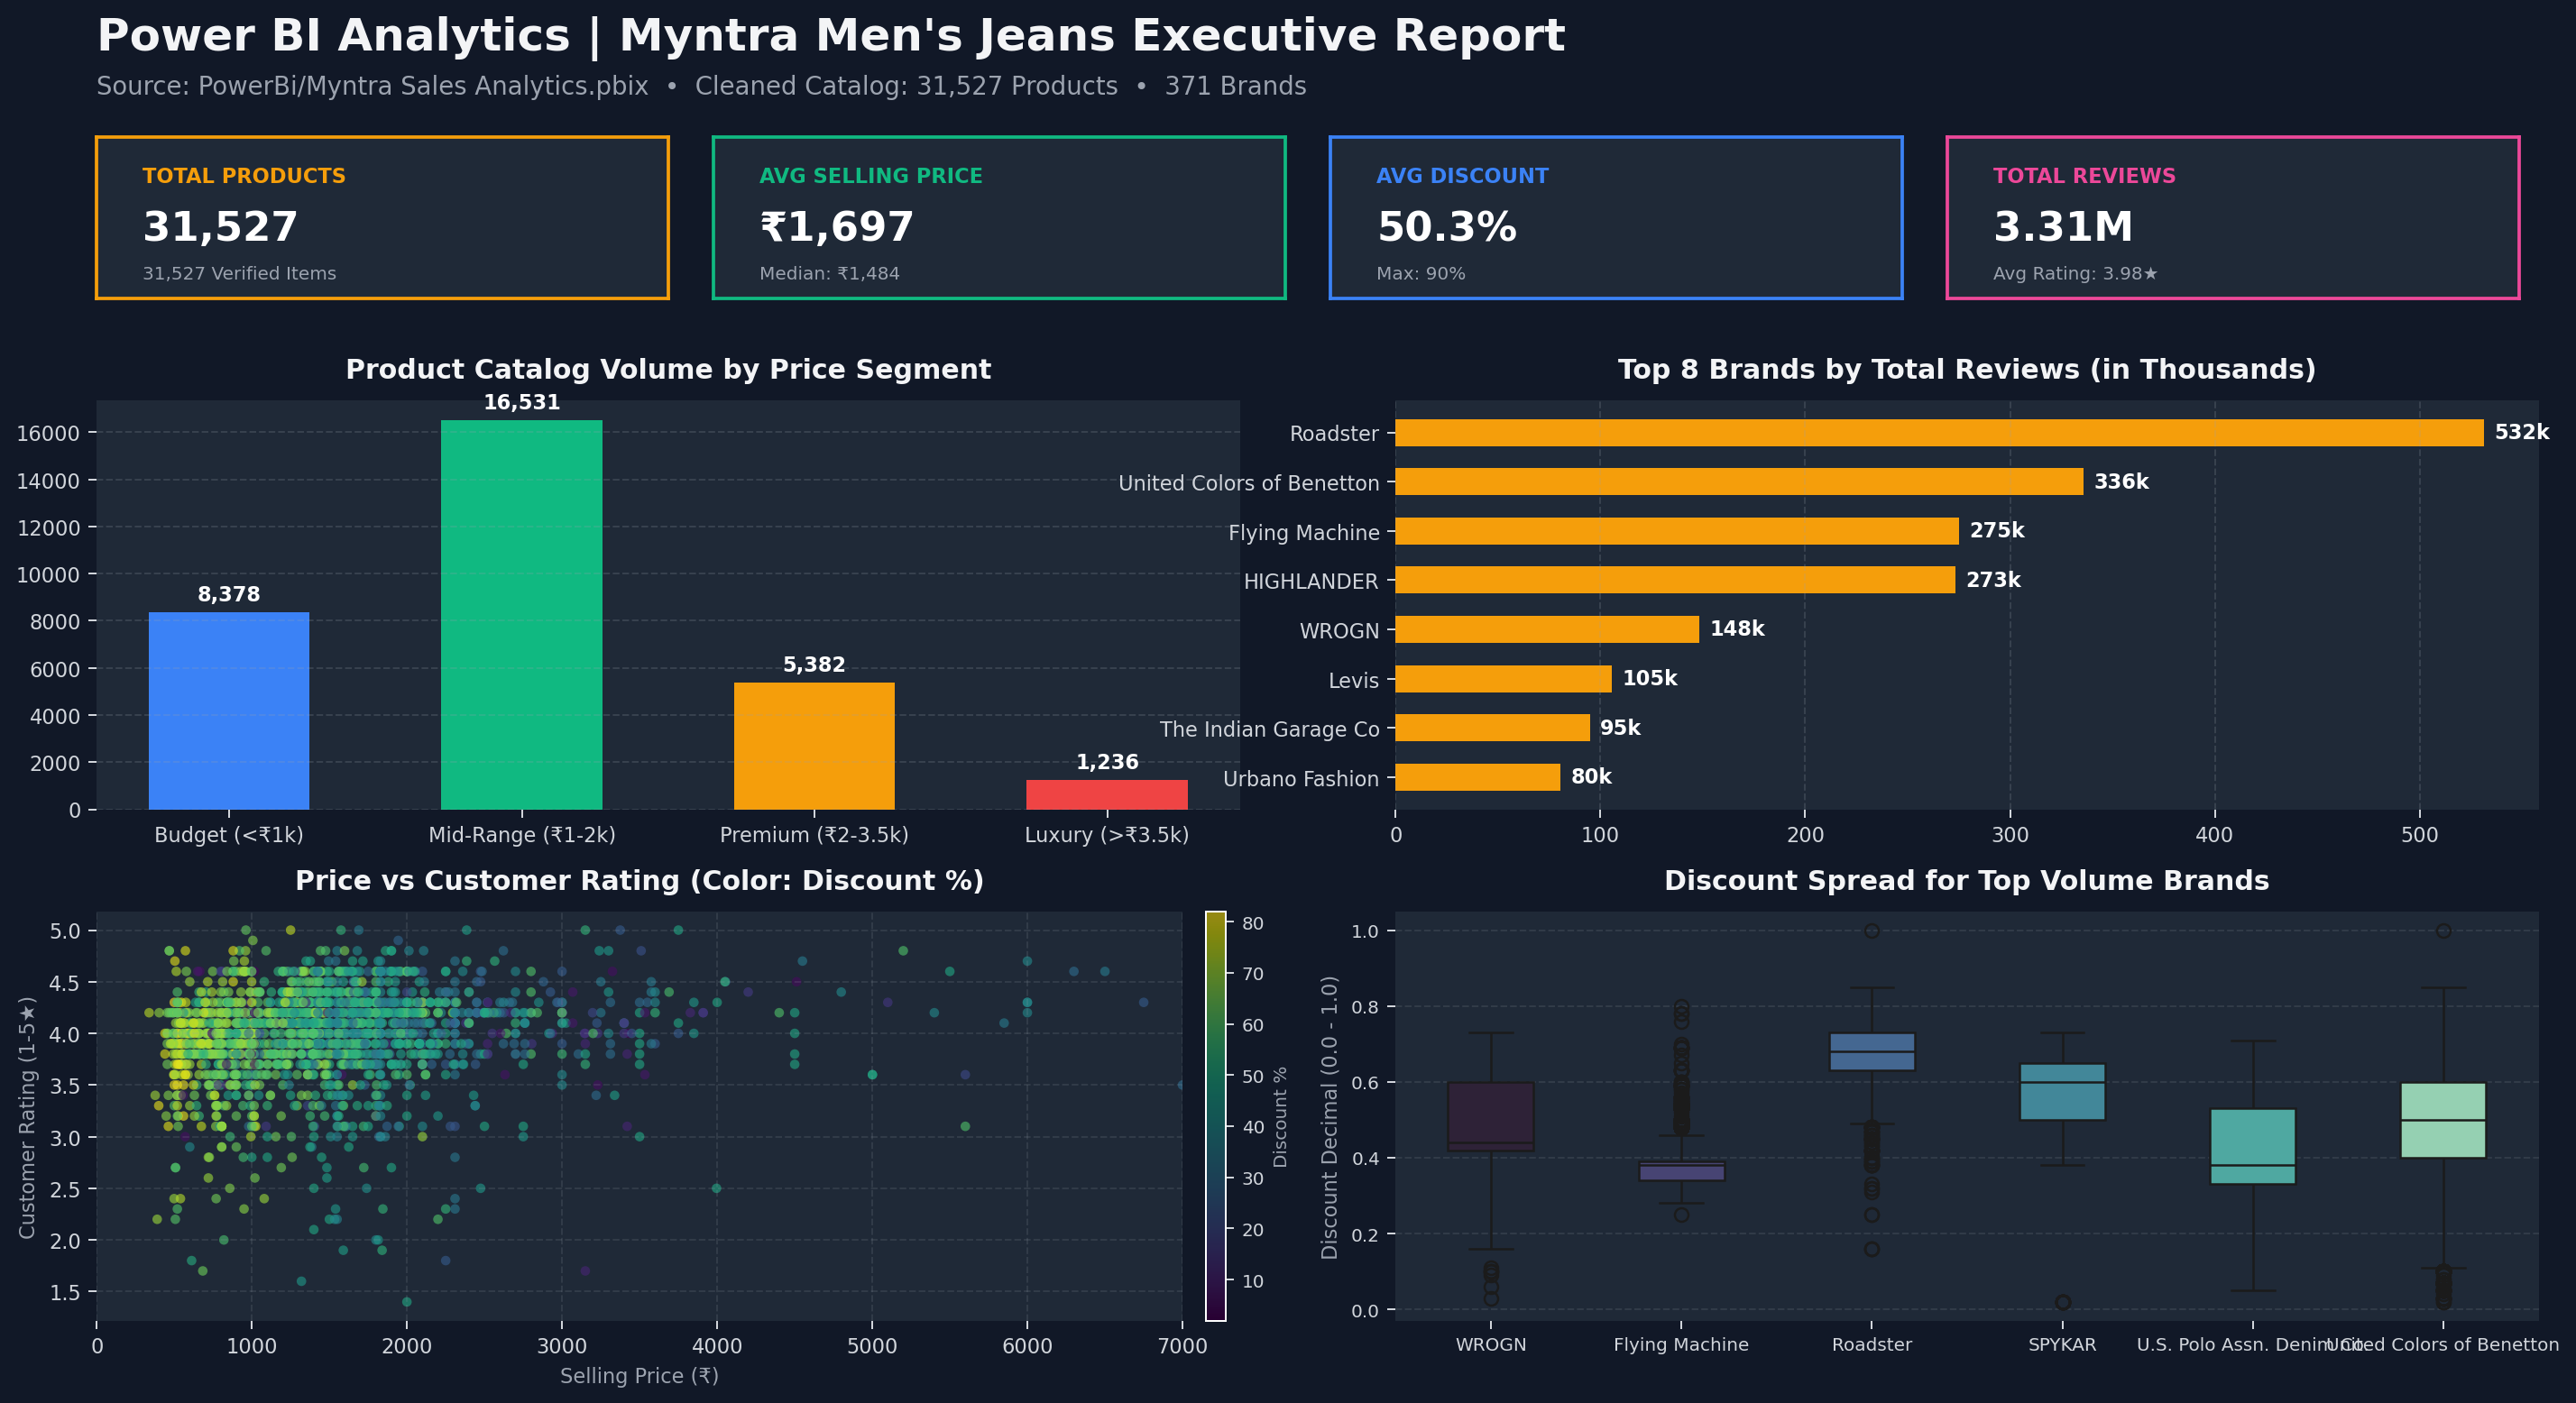

Layout of this report page (visuals, bound fields, positions):
{"tool":"powerbi","page":{"name":"Page 1","canvas":[3900,2020],"ordinal":0},"visuals":[{"type":"textbox","title":"MYNTRA MEN''S JEANS ANALYTICS","box":[10,0,3990,150],"z":0},{"type":"shape","box":[0,0,434,2480],"z":1000},{"type":"image","box":[10,0,250,120],"z":2000},{"type":"slicer","title":"Brand Name","fields":{"Values":["myntra_cleaned.brand_name"]},"box":[16,194,356,104],"z":3000},{"type":"slicer","fields":{"Values":["myntra_cleaned.Price Segment"]},"box":[16,362,358,118],"z":4000},{"type":"slicer","fields":{"Values":["myntra_cleaned.Rating Category"]},"box":[16,552,354,132],"z":5000},{"type":"shape","box":[15,755,390,1110],"z":6000},{"type":"image","box":[34,1518,106,96],"z":12000},{"type":"image","box":[28,1354,82,98],"z":13000},{"type":"image","box":[30,1668,94,88],"z":14000},{"type":"image","box":[28,1152,84,126],"z":15000},{"type":"image","box":[40,832,76,78],"z":16000},{"type":"image","box":[0,992,130,90],"z":17000},{"type":"cardVisual","fields":{"Data":["myntra_cleaned.Total Products"]},"box":[146,814,210,116],"z":18000},{"type":"cardVisual","fields":{"Data":["myntra_cleaned.Total Brands"]},"box":[140,974,238,126],"z":19000},{"type":"cardVisual","fields":{"Data":["myntra_cleaned.Average Price"]},"box":[128,1152,246.7,125],"z":20000},{"type":"cardVisual","fields":{"Data":["myntra_cleaned.Average Rating"]},"box":[136,1332,234,142],"z":21000},{"type":"cardVisual","fields":{"Data":["myntra_cleaned.Average Discount"]},"box":[156,1498,218,116],"z":22000},{"type":"cardVisual","fields":{"Data":["myntra_cleaned.Total Customer Ratings"]},"box":[138,1640,242,146],"z":23000},{"type":"clusteredColumnChart","title":"Top 10 Brands by Product Count","fields":{"Category":["myntra_cleaned.brand_name"],"Y":["CountNonNull(myntra_cleaned.brand_name)"]},"box":[465,190,1105,625],"z":24000},{"type":"clusteredBarChart","title":"Average Rating by Brand","fields":{"Category":["myntra_cleaned.brand_name"],"Y":["myntra_cleaned.Average Rating (Min 100 Products)"]},"box":[1592.5,190,887.5,625],"z":25000},{"type":"clusteredBarChart","title":"Average Discount % by Brand","fields":{"Category":["myntra_cleaned.brand_name"],"Y":["myntra_cleaned.Average Discount (Min 100 Products)"]},"box":[2505,195,1362.5,620],"z":26000},{"type":"clusteredColumnChart","title":"Price Distribution","fields":{"Category":["myntra_cleaned.Price Range"],"Y":["CountNonNull(myntra_cleaned.Price Range)"]},"box":[465,850.4,640,465],"z":27000},{"type":"donutChart","title":"Products Across Price Categories","fields":{"Category":["myntra_cleaned.Price Segment"],"Y":["CountNonNull(myntra_cleaned.Price Segment)"]},"box":[1122.5,850,682.5,465],"z":28000},{"type":"clusteredColumnChart","title":"Customer Ratings Distribution","fields":{"Category":["myntra_cleaned.Rating Category"],"Y":["CountNonNull(myntra_cleaned.Rating Category)"]},"box":[1825,850,970,465],"z":29000},{"type":"clusteredBarChart","title":"Customer Engagement by Brand (Number of Ratings)","fields":{"Category":["myntra_cleaned.brand_name"],"Y":["myntra_cleaned.Customer Engagement"]},"box":[2815,850,1052.5,460],"z":30000},{"type":"clusteredColumnChart","title":"Top 5 Brands by Value Score","fields":{"Category":["myntra_cleaned.brand_name"],"Y":["myntra_cleaned.Value Score"]},"box":[466,1354,1050,475],"z":31000},{"type":"clusteredColumnChart","title":"Top 5 Brands by Business Performance Score","fields":{"Category":["myntra_cleaned.brand_name"],"Y":["myntra_cleaned.Business Performance Score"]},"box":[1548,1354,1080,475],"z":32000},{"type":"tableEx","title":"Top Brand Summary","fields":{"Values":["myntra_cleaned.brand_name","myntra_cleaned.Product Count","myntra_cleaned.Average Price","myntra_cleaned.Average Rating","myntra_cleaned.Average Discount","myntra_cleaned.Customer Engagement","myntra_cleaned.Business Performance Score"]},"box":[2652,1354,1215,475],"z":33000},{"type":"shape","box":[0,1880,4000,115],"z":34000},{"type":"textbox","box":[355,1910,3040,165],"z":35000}]}

Visuals, with their boxes on the page's 3900x2020 design canvas (x1, y1, x2, y2). These are canvas units, not pixel positions in the 2576x1403 screenshot, which may show the page scaled, cropped or inside an application window:
"MYNTRA MEN''S JEANS ANALYTICS" textbox: <box>10,0,4000,150</box>
shape: <box>0,0,434,2480</box>
image: <box>10,0,260,120</box>
"Brand Name" slicer: <box>16,194,372,298</box>
slicer - myntra_cleaned.Price Segment: <box>16,362,374,480</box>
slicer - myntra_cleaned.Rating Category: <box>16,552,370,684</box>
shape: <box>15,755,405,1865</box>
image: <box>34,1518,140,1614</box>
image: <box>28,1354,110,1452</box>
image: <box>30,1668,124,1756</box>
image: <box>28,1152,112,1278</box>
image: <box>40,832,116,910</box>
image: <box>0,992,130,1082</box>
cardVisual - myntra_cleaned.Total Products: <box>146,814,356,930</box>
cardVisual - myntra_cleaned.Total Brands: <box>140,974,378,1100</box>
cardVisual - myntra_cleaned.Average Price: <box>128,1152,375,1277</box>
cardVisual - myntra_cleaned.Average Rating: <box>136,1332,370,1474</box>
cardVisual - myntra_cleaned.Average Discount: <box>156,1498,374,1614</box>
cardVisual - myntra_cleaned.Total Customer Ratings: <box>138,1640,380,1786</box>
"Top 10 Brands by Product Count" clusteredColumnChart: <box>465,190,1570,815</box>
"Average Rating by Brand" clusteredBarChart: <box>1592,190,2480,815</box>
"Average Discount % by Brand" clusteredBarChart: <box>2505,195,3868,815</box>
"Price Distribution" clusteredColumnChart: <box>465,850,1105,1315</box>
"Products Across Price Categories" donutChart: <box>1122,850,1805,1315</box>
"Customer Ratings Distribution" clusteredColumnChart: <box>1825,850,2795,1315</box>
"Customer Engagement by Brand (Number of Ratings)" clusteredBarChart: <box>2815,850,3868,1310</box>
"Top 5 Brands by Value Score" clusteredColumnChart: <box>466,1354,1516,1829</box>
"Top 5 Brands by Business Performance Score" clusteredColumnChart: <box>1548,1354,2628,1829</box>
"Top Brand Summary" tableEx: <box>2652,1354,3867,1829</box>
shape: <box>0,1880,4000,1995</box>
textbox: <box>355,1910,3395,2075</box>
